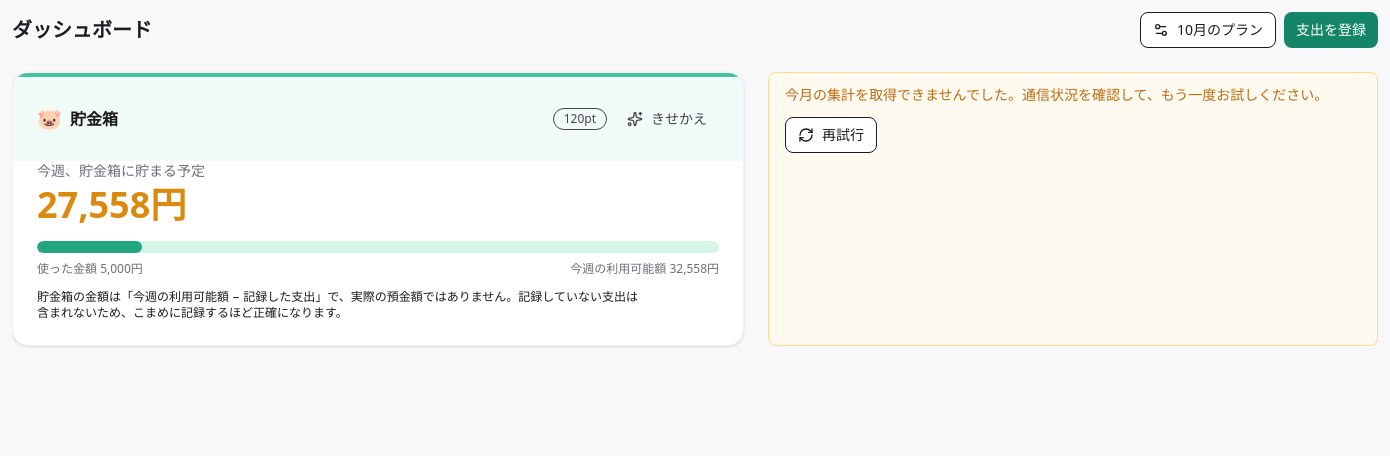
Test case: DashboardPage: 取得中・取得失敗・0円の区別 › 集計の取得に失敗したら0円ではなく失敗と表示し、再試行で取得し直せる
Click the button "再試行" at coordinates (831, 135), box [785, 117, 877, 153]
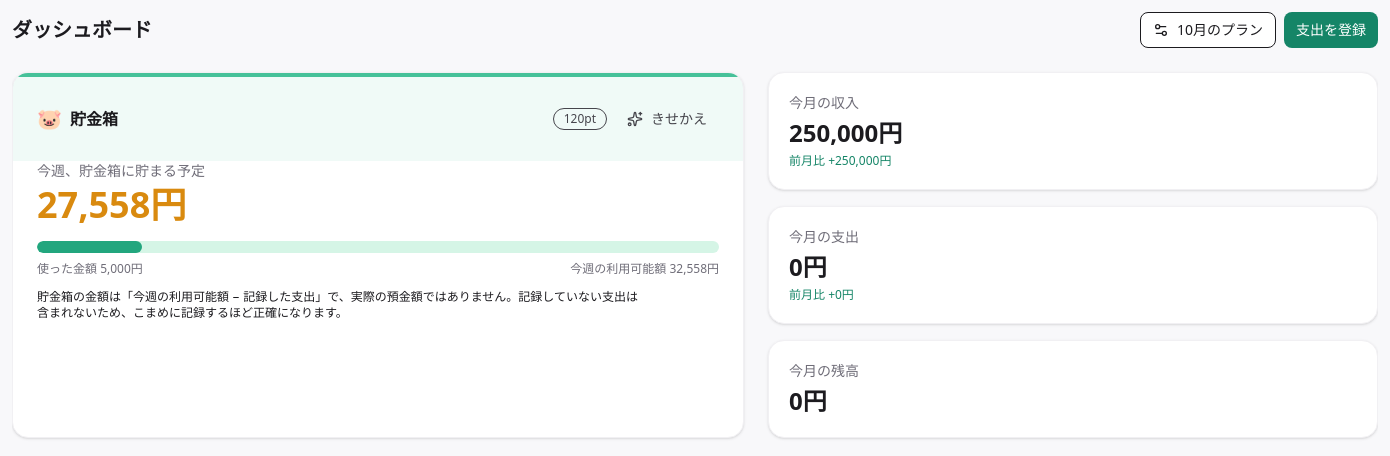
Expected: the text "250,000円" is shown, [789, 116, 902, 149]
Expected: the text "今月の集計を取得できませんでした" is gone
